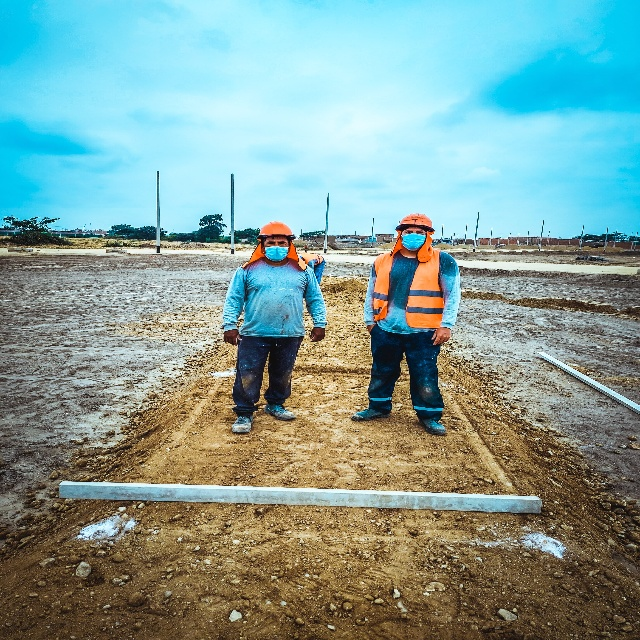Mascara: (400, 230, 427, 249), (263, 244, 289, 260)
Sin_guantes: (431, 327, 450, 349), (222, 328, 241, 347), (309, 327, 324, 342)
